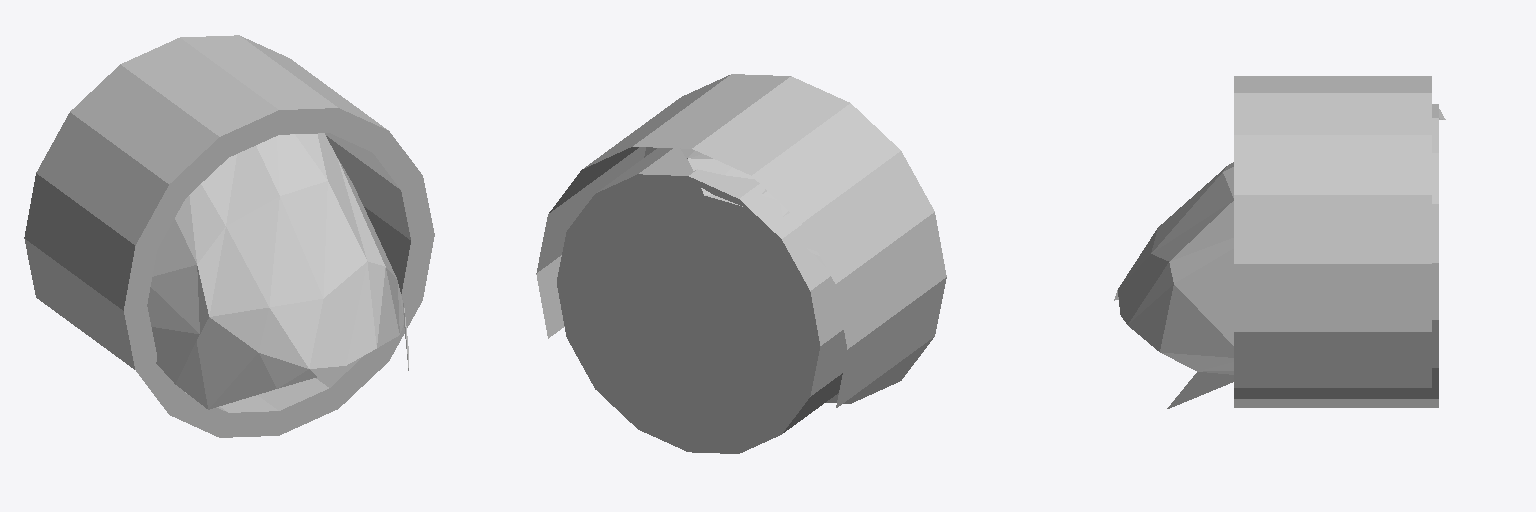
Rendered from Tunnel1.obj.
3 renders of one model, left to right at view 1: azimuth 30°, elevation 25°; view 2: azimuth 150°, elevation 25°; view 3: azimuth 270°, elevation 25°, orthographic.
Visible parts, largest first — view 1: Parking_G.001, Plane.005; view 2: Parking_G.001, Plane.005; view 3: Parking_G.001, Plane.005.
Part boxes in pixels (left/top/right/bottom): Parking_G.001: left=24, top=35, right=434, bottom=437; Plane.005: left=147, top=133, right=408, bottom=409; Parking_G.001: left=536, top=74, right=946, bottom=453; Plane.005: left=680, top=148, right=825, bottom=266; Parking_G.001: left=1234, top=76, right=1438, bottom=407; Plane.005: left=1114, top=109, right=1445, bottom=408.
Size of the model in its own units: 11.19 by 11.19 by 10.34.